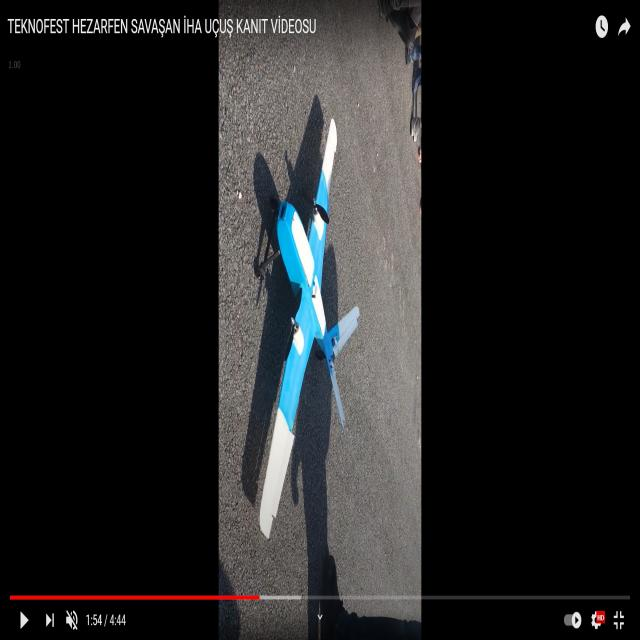iha: (290, 108, 328, 536)
